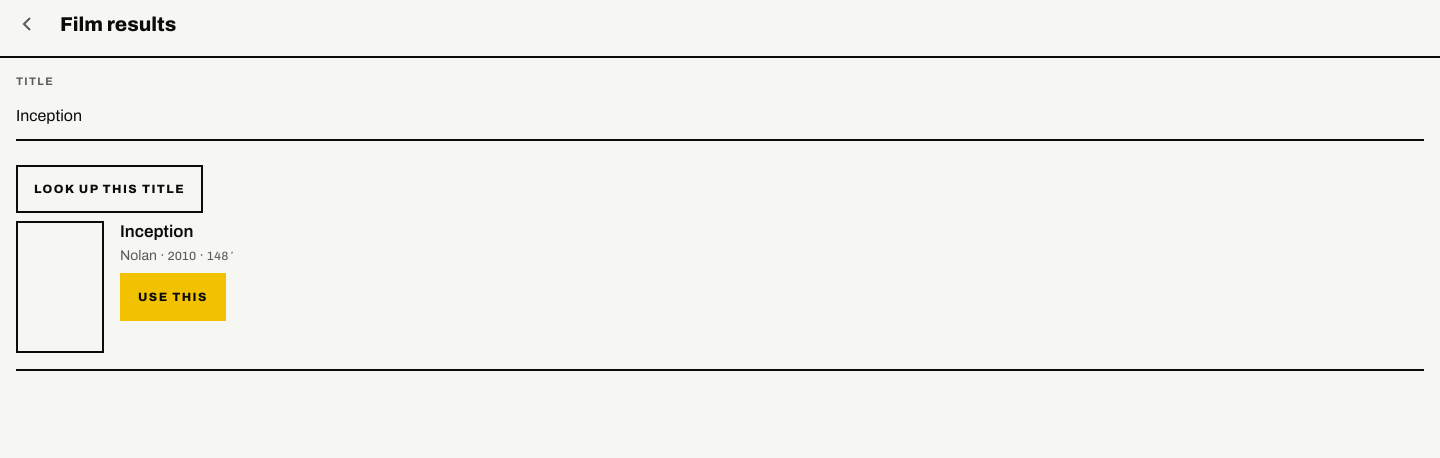
Test: VideoDetectionResults › reports a failed save in place rather than navigating away on it
Click the button "Use this" at {"x": 173, "y": 297}, box [120,273,226,321]
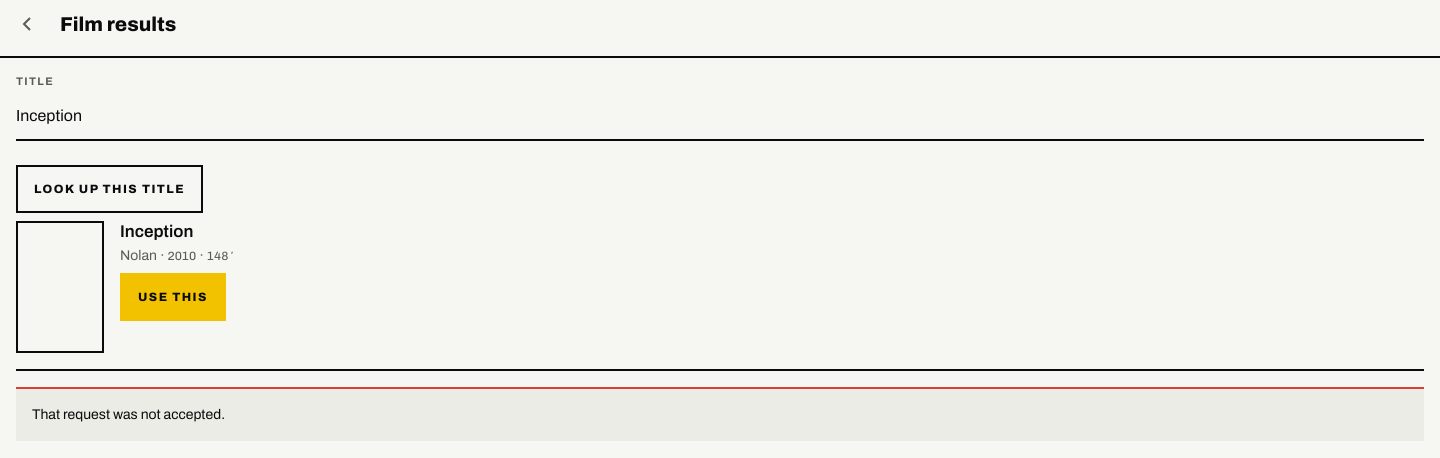
Expected: the message shows "That request was not accepted", [32,407,225,422]
